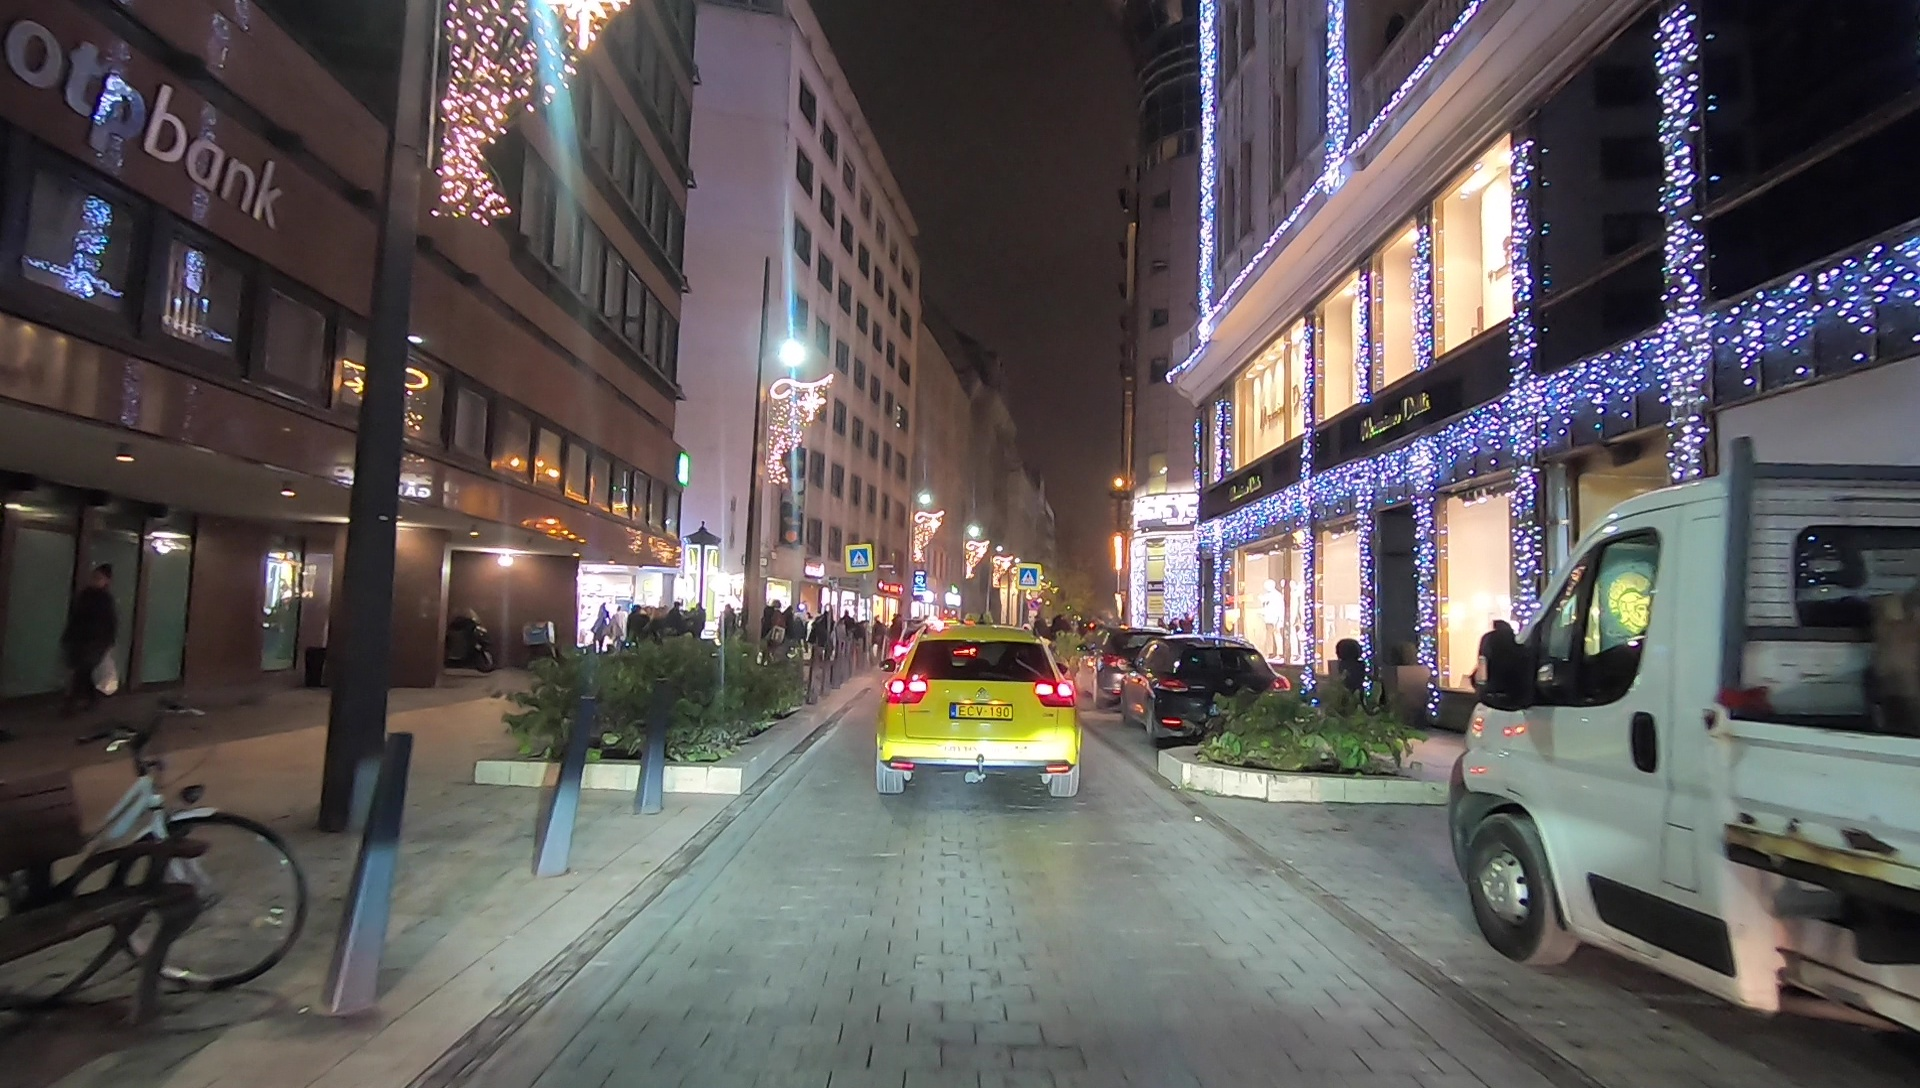person: (62, 563, 117, 717)
